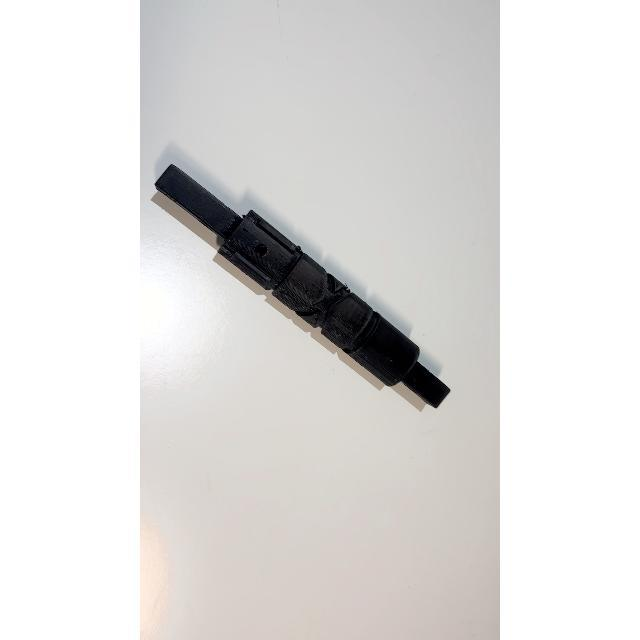Pieza1: (150, 149, 458, 415)
